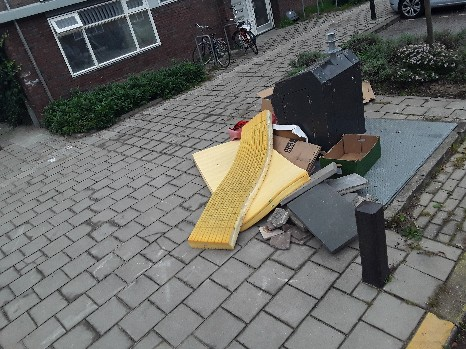Container: (287, 60, 371, 129)
Papier: (331, 129, 386, 176)
Rest: (192, 135, 322, 229), (225, 128, 297, 221), (302, 173, 358, 244), (248, 87, 278, 140)
